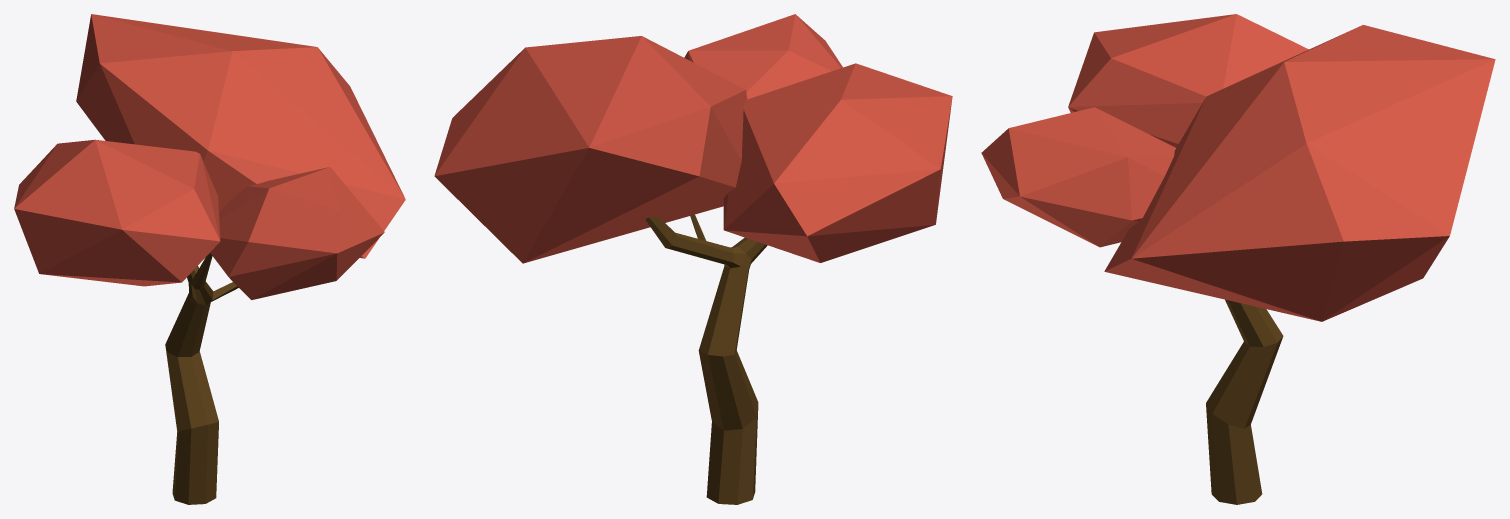
File: RedTree.fbx
The picture shows the model from 3 angles, left to right: view 1: azimuth 30°, elevation 25°; view 2: azimuth 150°, elevation 25°; view 3: azimuth 270°, elevation 25°; orthographic projection. The views are drawn at different scales.
Visible parts, largest first — view 1: Circle.001; view 2: Circle.001; view 3: Circle.001.
Part boxes in pixels (<box>): Circle.001: <box>14,14,405,504</box>; Circle.001: <box>434,14,952,504</box>; Circle.001: <box>981,14,1495,504</box>.
Size of the model in its own units: 182 by 185 by 186.
